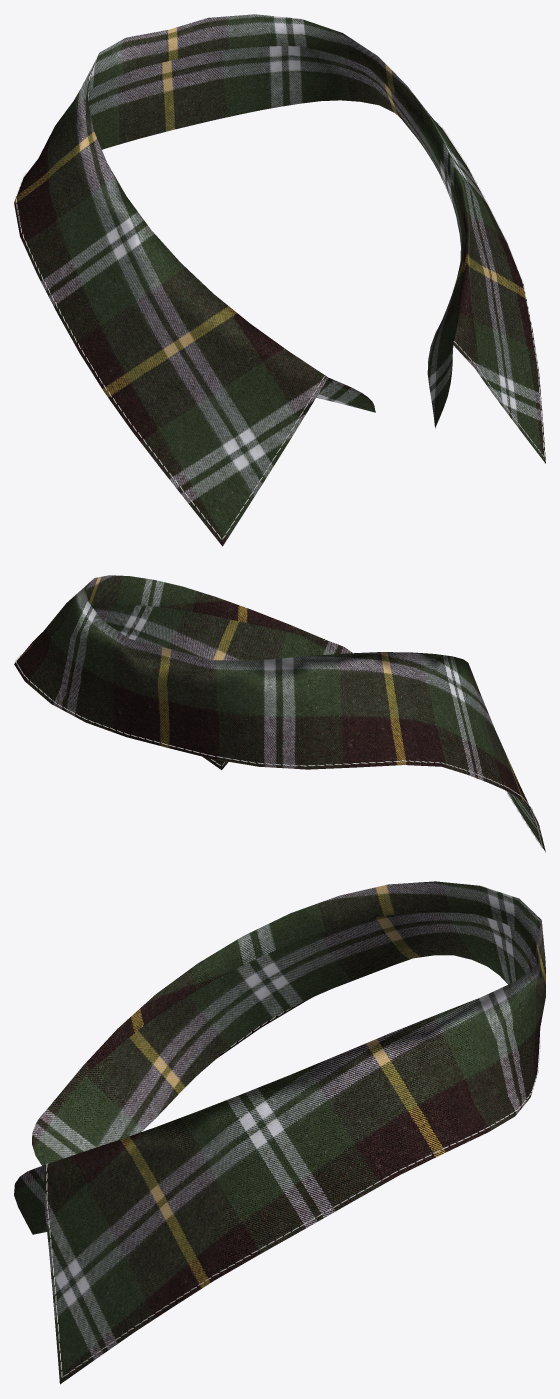
File: sz2lzq.glb
3 renders of one model, top to bottom at view 1: azimuth 30°, elevation 25°; view 2: azimuth 150°, elevation 25°; view 3: azimuth 270°, elevation 25°, orthographic. The views are drawn at different scales.
Parts seen in each view (by area): view 1: sz2lzq, _1; view 2: sz2lzq, _1; view 3: sz2lzq, _1.
Boxes of the visible parts, x1=… form: sz2lzq: x1=14, y1=14, x2=545, y2=546; _1: x1=15, y1=122, x2=544, y2=539; sz2lzq: x1=14, y1=575, x2=545, y2=852; _1: x1=15, y1=639, x2=542, y2=848; sz2lzq: x1=14, y1=881, x2=545, y2=1384; _1: x1=46, y1=1005, x2=540, y2=1377.
Bounding box in the file's own units: 2 × 1.44 × 1.92.
2 materials, 2 textured.
